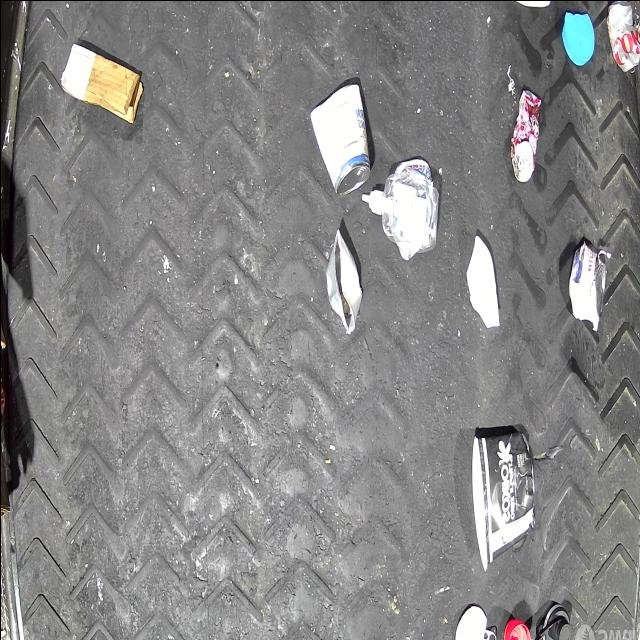can: (308, 81, 372, 197), (324, 228, 362, 334), (509, 88, 542, 182), (568, 243, 604, 323), (606, 0, 640, 75)
